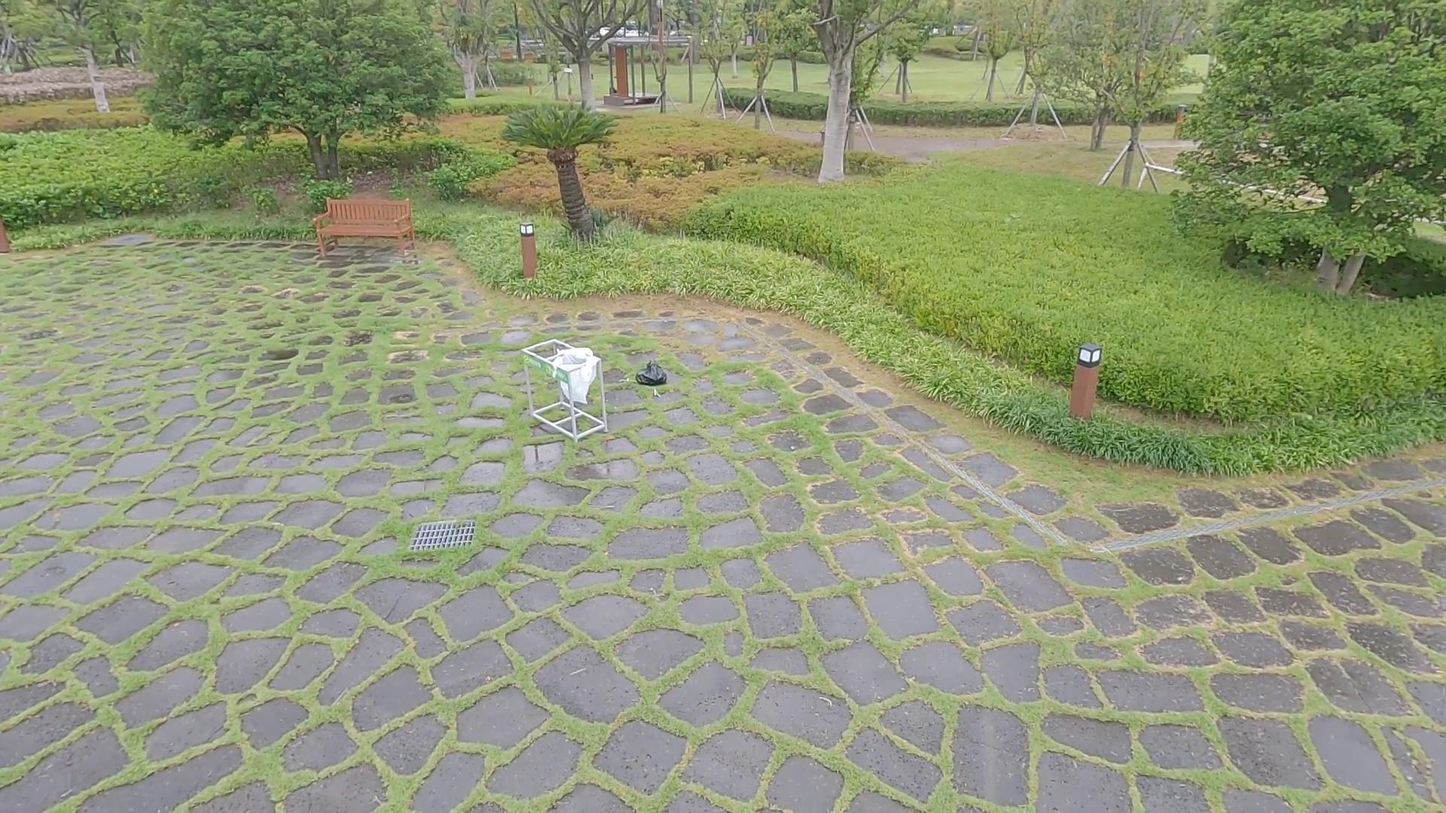trash: (635, 357, 668, 385)
